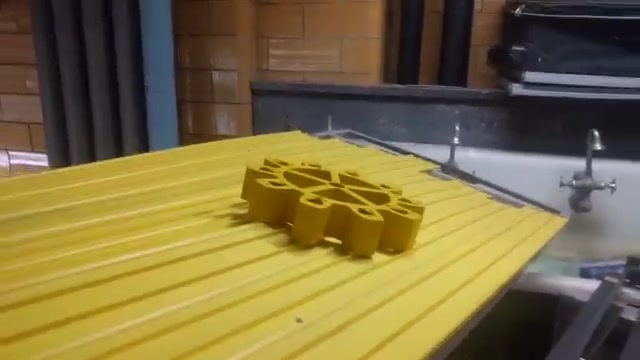gear: (241, 149, 429, 266)
